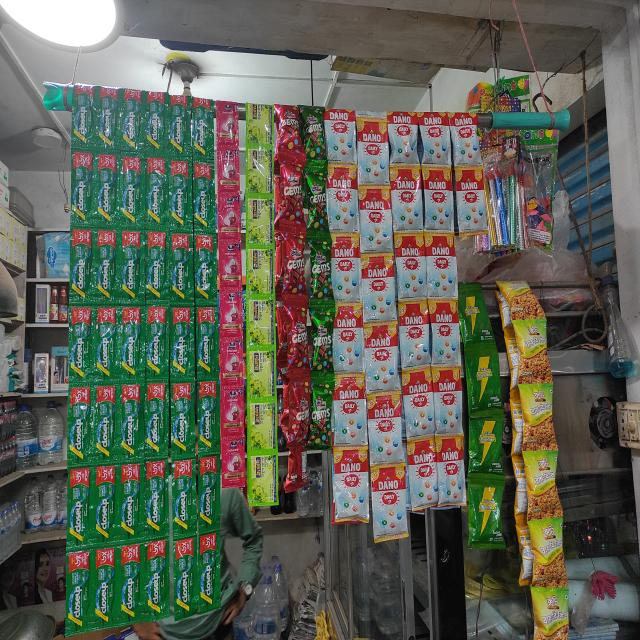non-ubl: (370, 456, 408, 539), (367, 386, 405, 462), (333, 447, 369, 526), (332, 446, 366, 526), (405, 434, 438, 513), (456, 154, 487, 235), (364, 317, 401, 384), (331, 371, 363, 445), (358, 183, 392, 252), (401, 364, 432, 437), (325, 162, 356, 233), (397, 300, 429, 368), (356, 115, 388, 182), (393, 229, 425, 295), (389, 165, 420, 233), (330, 231, 360, 301), (433, 433, 461, 506), (361, 259, 396, 317), (434, 365, 462, 436), (332, 303, 362, 369), (421, 164, 450, 232), (386, 112, 419, 168), (322, 108, 352, 167), (429, 298, 457, 361), (447, 111, 478, 167), (247, 451, 278, 506), (246, 396, 275, 452), (418, 111, 447, 167), (246, 196, 274, 252), (247, 247, 274, 303), (428, 230, 453, 284), (246, 148, 273, 197), (245, 103, 273, 150), (221, 434, 245, 488), (247, 298, 275, 344), (220, 439, 243, 493), (247, 350, 275, 394), (218, 234, 241, 286), (219, 328, 241, 378), (218, 386, 242, 431), (216, 138, 238, 186), (219, 280, 241, 324), (220, 194, 242, 231)
ubl: (463, 334, 501, 415), (89, 457, 120, 546), (64, 542, 94, 630), (468, 478, 504, 547), (87, 382, 116, 465), (87, 150, 119, 223), (66, 466, 93, 548), (171, 456, 198, 537), (117, 153, 143, 237), (144, 537, 170, 620), (196, 528, 221, 614), (169, 381, 194, 462), (144, 154, 168, 238), (143, 379, 168, 459), (170, 306, 195, 386), (199, 375, 222, 461), (66, 386, 91, 465), (465, 413, 499, 471), (92, 307, 119, 380), (143, 458, 167, 540), (118, 461, 142, 542), (92, 545, 116, 626), (166, 159, 190, 240), (173, 534, 196, 618), (68, 307, 94, 381), (91, 229, 118, 300), (70, 150, 94, 229), (144, 304, 169, 378), (193, 167, 216, 247), (198, 456, 220, 536), (120, 543, 142, 622), (120, 383, 142, 462), (118, 307, 142, 379), (168, 230, 192, 302), (118, 229, 142, 300), (143, 89, 169, 154), (196, 534, 218, 610), (192, 97, 216, 165), (195, 306, 217, 378), (167, 90, 190, 156), (70, 228, 92, 296), (120, 88, 143, 152), (70, 83, 93, 147), (145, 230, 167, 296), (97, 84, 119, 150), (194, 234, 215, 302)
